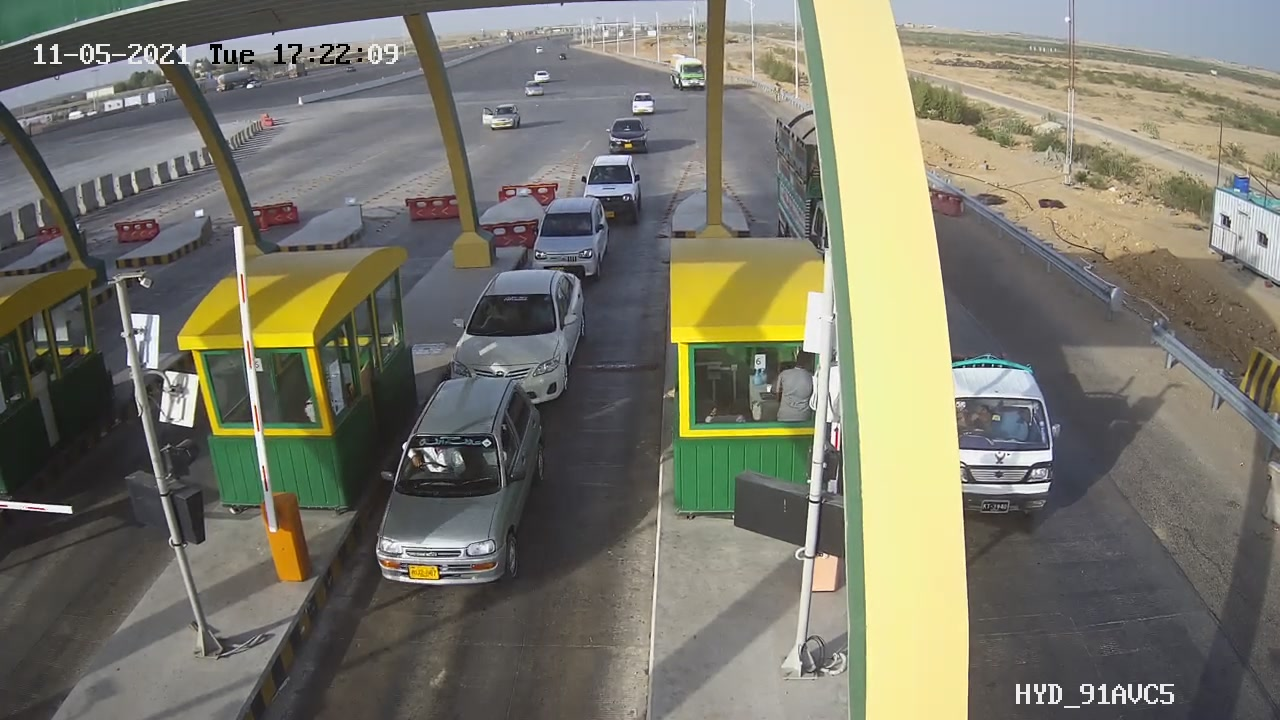F1: (355, 360, 563, 605), (434, 257, 607, 416), (514, 185, 625, 292)
